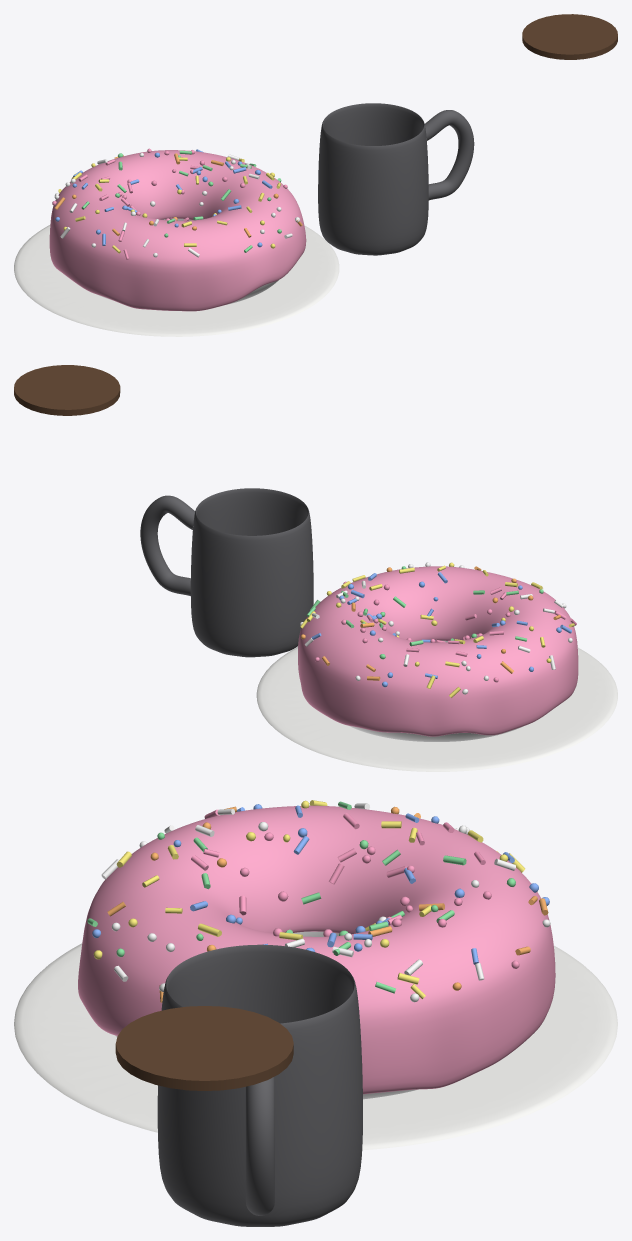
The model's file is donut.glb.
3 views of the same model, one above another, from view 1: azimuth 30°, elevation 25°; view 2: azimuth 150°, elevation 25°; view 3: azimuth 270°, elevation 25° (orthographic). The views are drawn at different scales.
Parts seen in each view (by area): view 1: Icing, Mug, Plate, Coffee; view 2: Icing, Mug, Plate, Coffee, Donut; view 3: Icing, Mug, Plate, Coffee.
Part boxes in pixels (x1,y1,x2,y2): Icing: (49,150,306,311); Mug: (318,103,474,255); Plate: (14,225,339,336); Coffee: (522,14,617,59); Icing: (298,566,578,736); Mug: (140,488,313,657); Plate: (256,647,617,771); Coffee: (14,365,120,415); Donut: (349,640,523,741); Icing: (78,805,555,1094); Mug: (157,944,362,1226); Plate: (14,943,617,1150); Coffee: (115,1006,293,1090).
Size of what is drawn, in the model's own units: 0.4206 by 0.126 by 0.2172.
